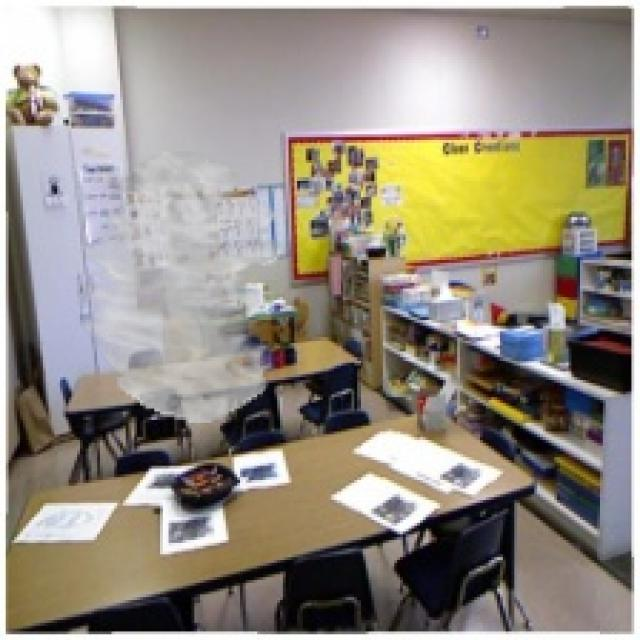smoke: (80, 151, 283, 423)
